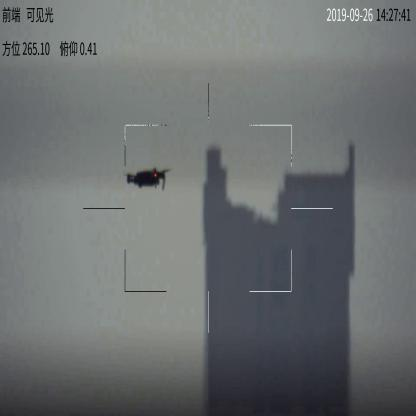uav: (119, 165, 174, 190)
